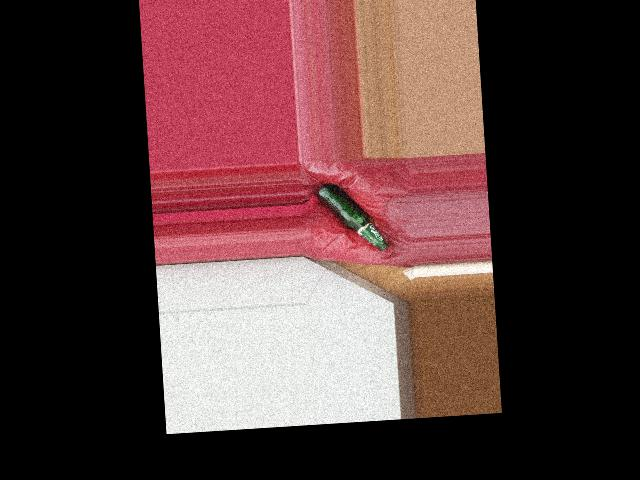beer: (317, 180, 389, 254)
